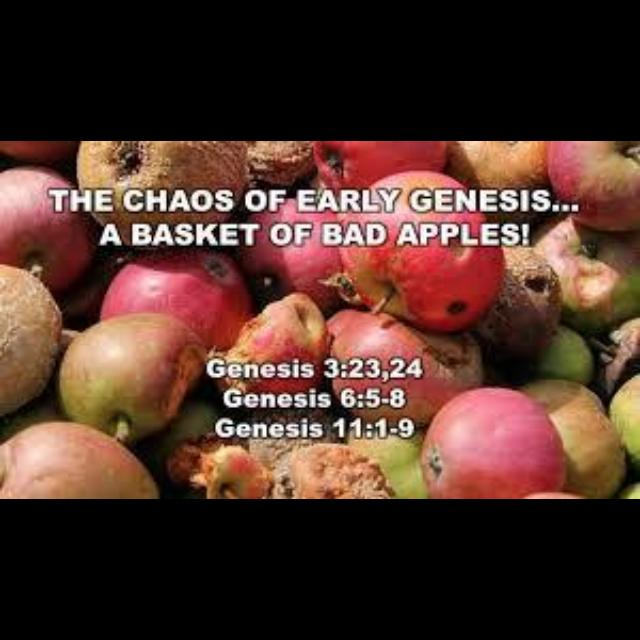apple: (339, 171, 503, 331), (58, 314, 205, 442), (79, 141, 245, 243), (420, 388, 563, 497), (100, 250, 252, 348), (207, 292, 329, 393), (0, 167, 98, 290), (237, 199, 341, 312), (0, 423, 158, 497), (0, 265, 62, 414), (314, 141, 446, 188), (288, 444, 393, 497)
rotten: (79, 141, 245, 243), (207, 292, 329, 393), (0, 265, 62, 414), (288, 444, 393, 497)
